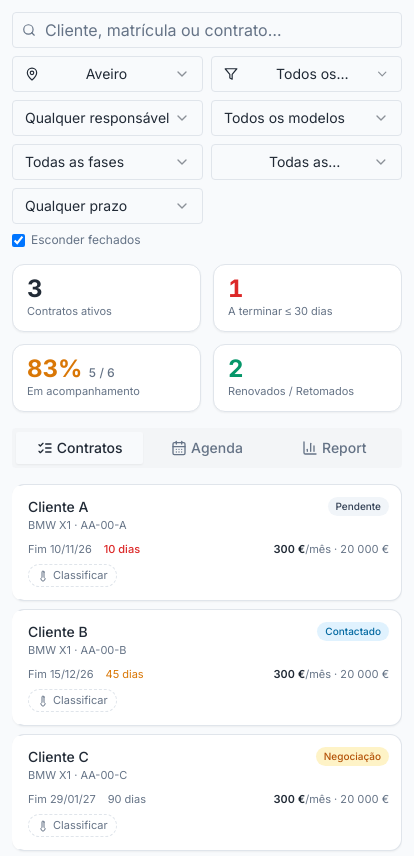
EndOfTermPage — contadores clicáveis › "Renovados / Retomados" mostra-os mesmo com "Esconder fechados" ligado, sem os perdidos
expect the checkbox labelled "Esconder fechados" is checked: met, box [12, 234, 25, 246]
Click the button "2 Renovados / Retomados". click: [308, 378]
box: [213, 344, 402, 412]
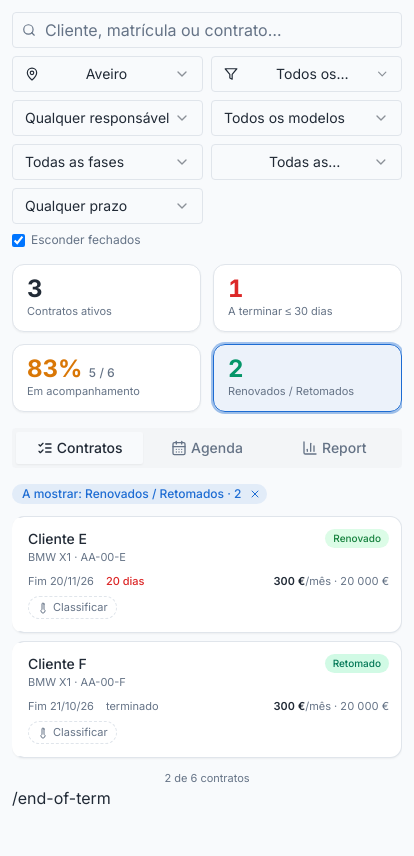
expect the text "Cliente E" is shown: met, box [28, 530, 87, 546]
expect the text "Cliente F" is shown: met, box [28, 654, 87, 672]
